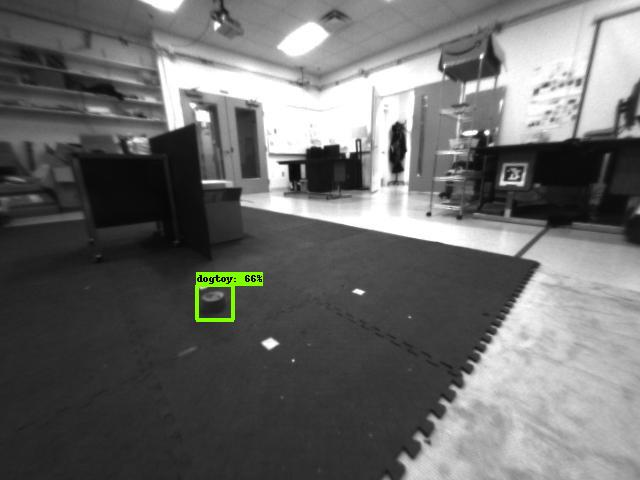dogtoy: (195, 287, 234, 321)
